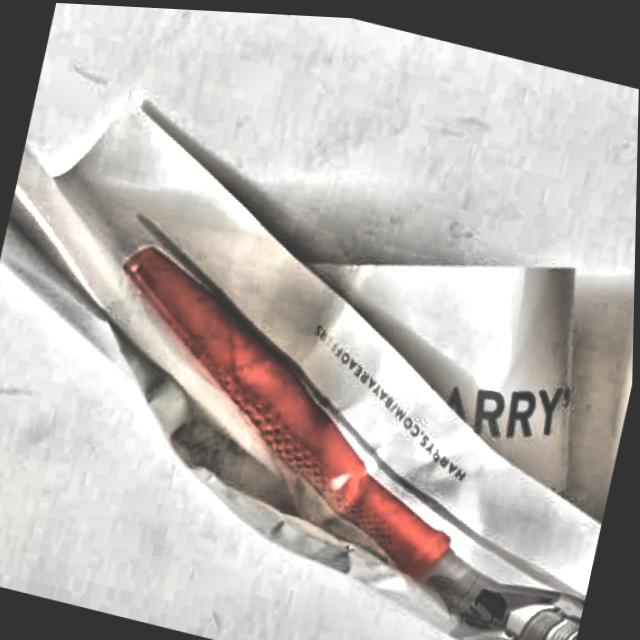Paper: (0, 41, 639, 640)
